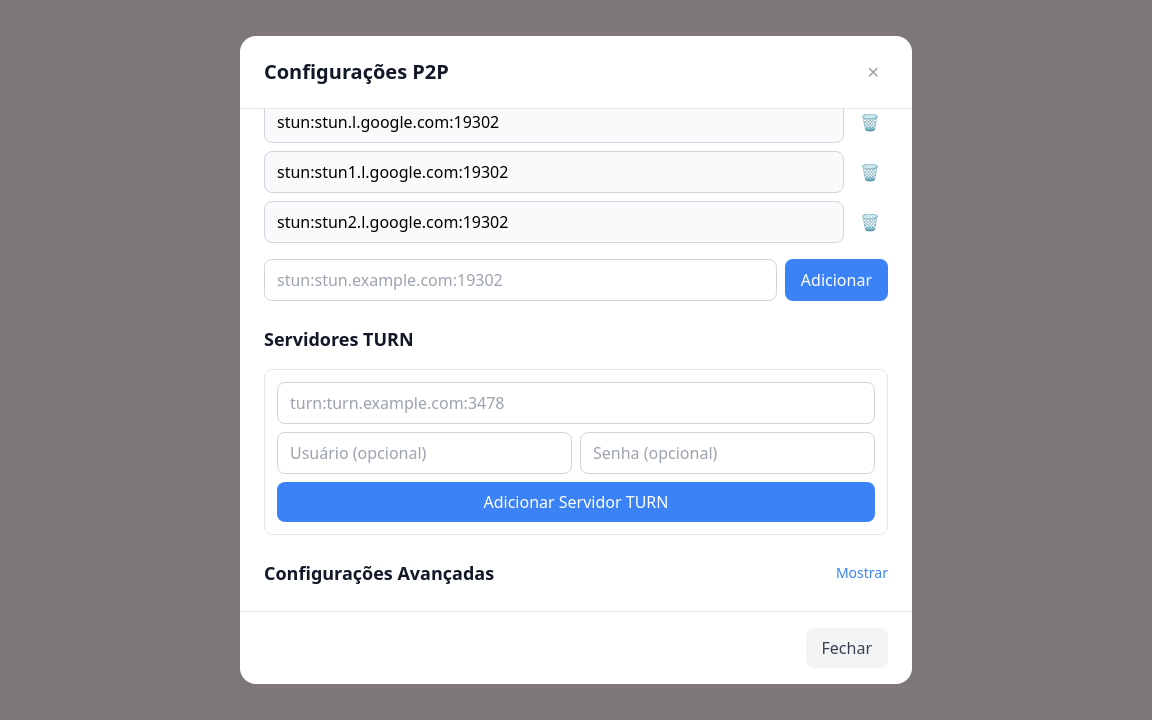
Test case: P2PConfigPanel › toggles advanced settings visibility
(page scrolled)
Click the button "Mostrar" at coordinates (862, 573), box [836, 563, 888, 583]
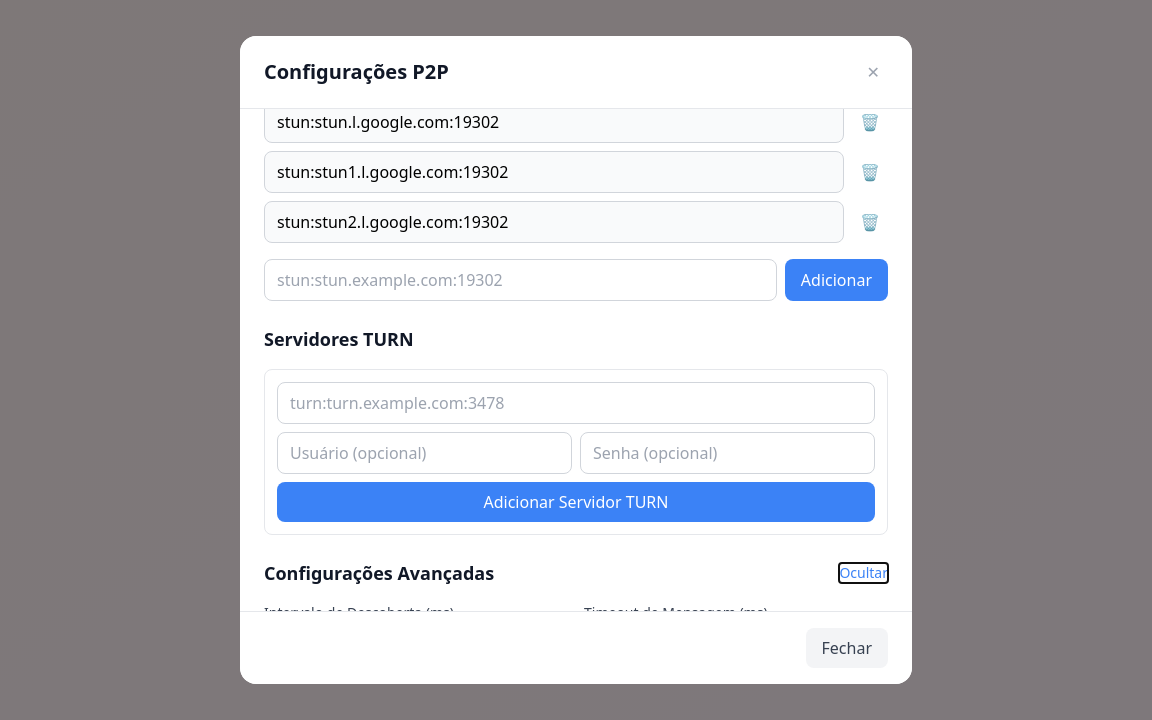
Result: the text "Intervalo de Descoberta (ms)" is shown at [264, 603, 454, 622]
Result: the text "Timeout de Mensagem (ms)" is shown at [584, 603, 768, 622]
Click the button "Ocultar" at coordinates (864, 573), box [839, 563, 888, 583]
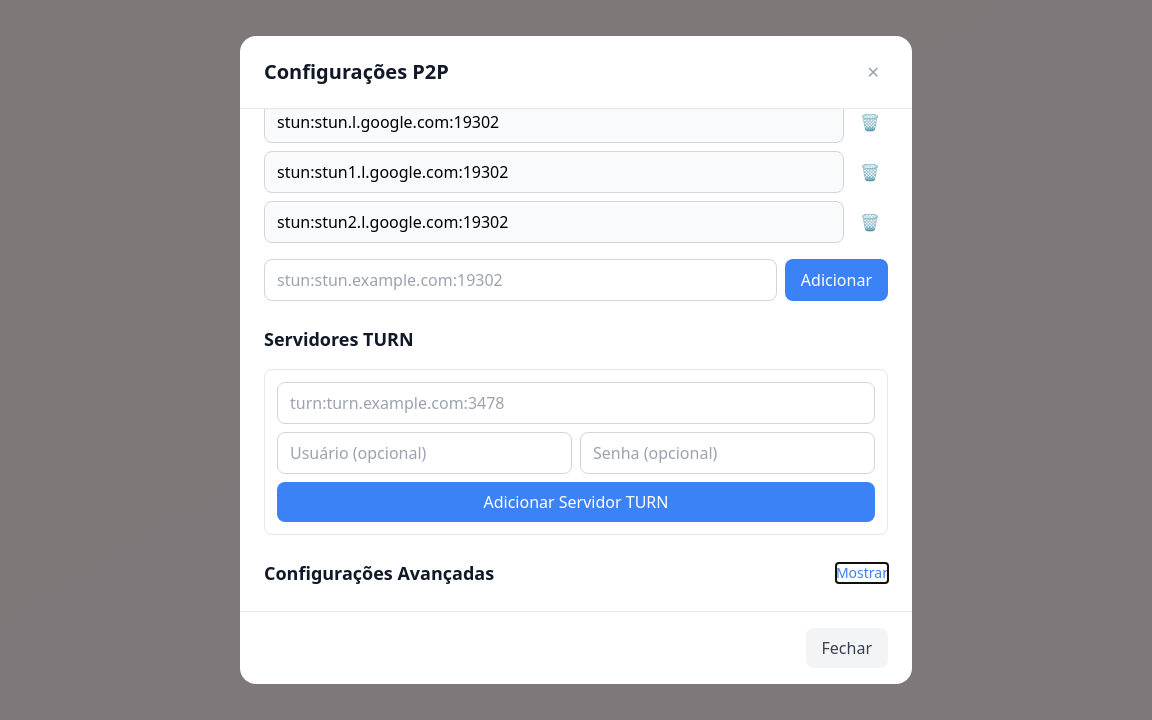
Result: the text "Intervalo de Descoberta (ms)" is gone
